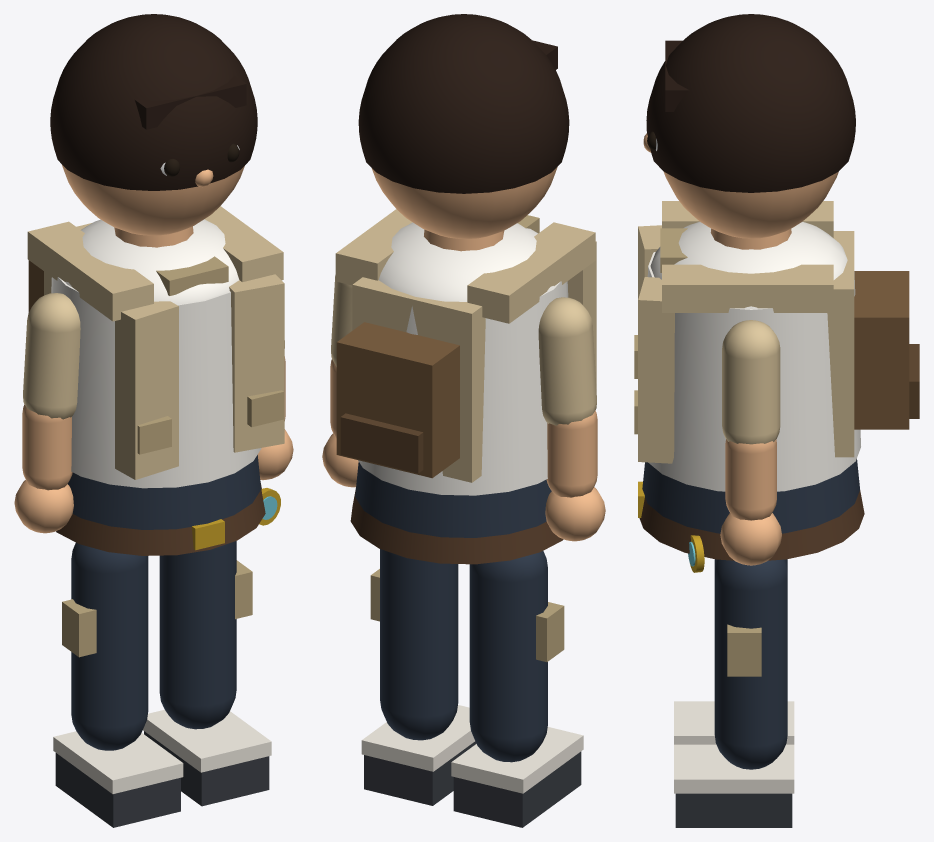
Rendered from player_male.glb.
3 renders of one model, left to right at view 1: azimuth 30°, elevation 25°; view 2: azimuth 150°, elevation 25°; view 3: azimuth 270°, elevation 25°, orthographic.
Visible parts, largest first — view 1: player_male; view 2: player_male; view 3: player_male.
Boxes of the visible parts, left/top/right/bottom form: player_male: left=14, top=14, right=293, bottom=827; player_male: left=322, top=14, right=605, bottom=827; player_male: left=634, top=14, right=919, bottom=827.
Bounding box in the file's own units: 0.92 × 2.46 × 0.83.
